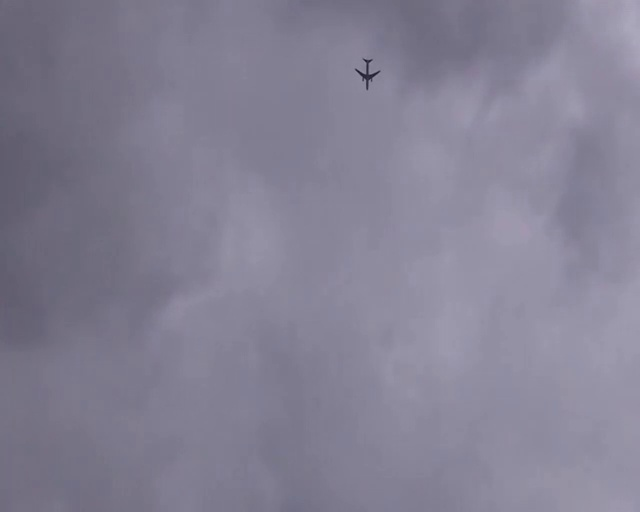AIRPLANE: (354, 57, 381, 90)
